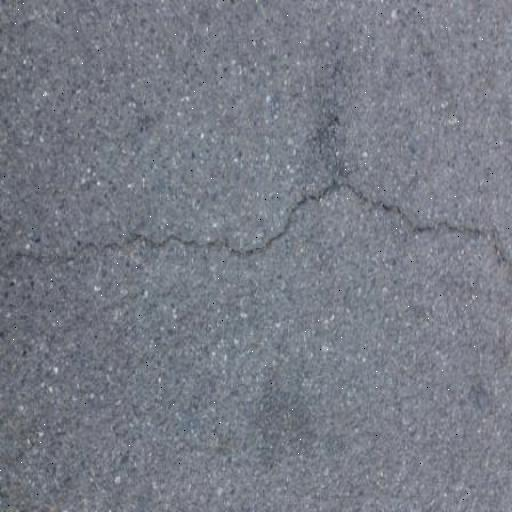spalling: (14, 170, 512, 282)
